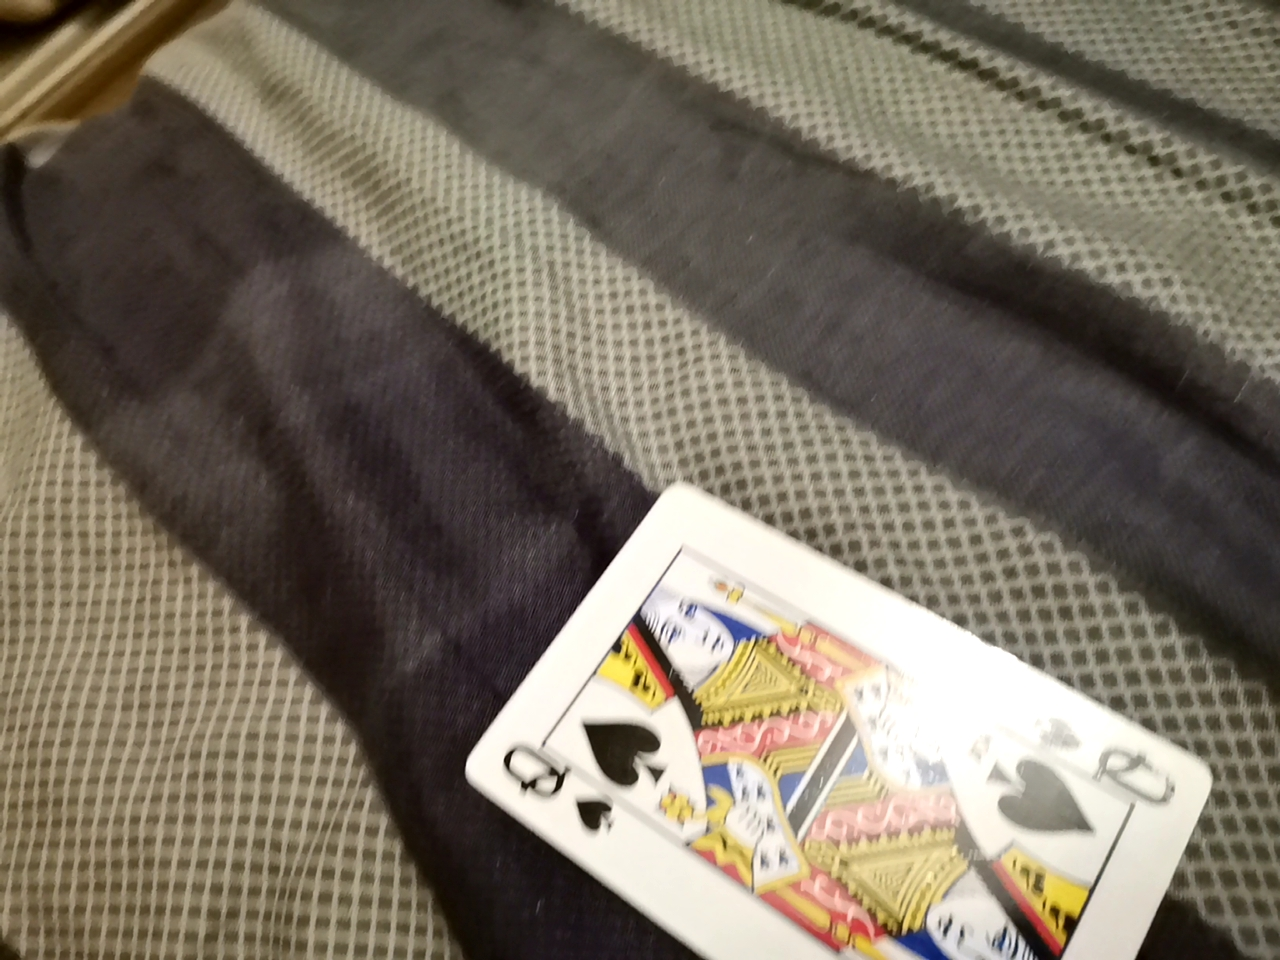ht q: (459, 484, 1210, 957)
